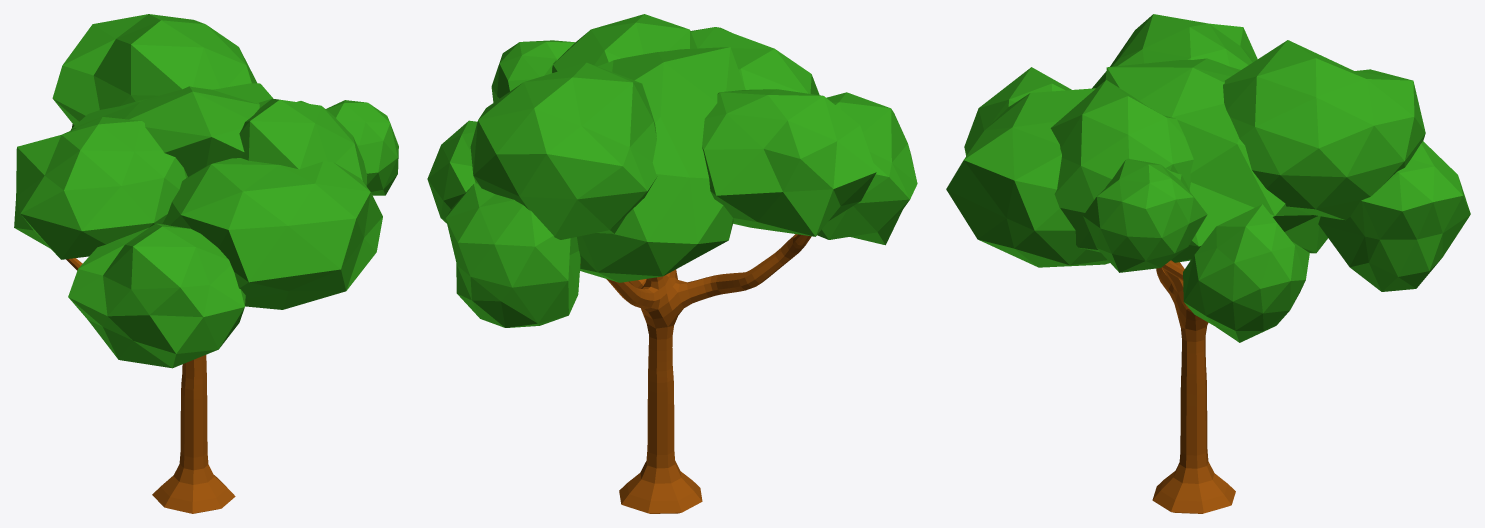
Rendered from treemesh.glb.
The picture shows the model from 3 angles, left to right: view 1: azimuth 30°, elevation 25°; view 2: azimuth 150°, elevation 25°; view 3: azimuth 270°, elevation 25°; orthographic projection. The views are drawn at different scales.
Parts seen in each view (by area): view 1: Plane; view 2: Plane; view 3: Plane.
Boxes of the visible parts, x1=… form: Plane: x1=14, y1=14, x2=398, y2=513; Plane: x1=427, y1=14, x2=917, y2=513; Plane: x1=946, y1=14, x2=1470, y2=513.
Bounding box in the file's own units: 9.16 × 10.21 × 10.67.
Materials: 1 (1 with a texture image).
